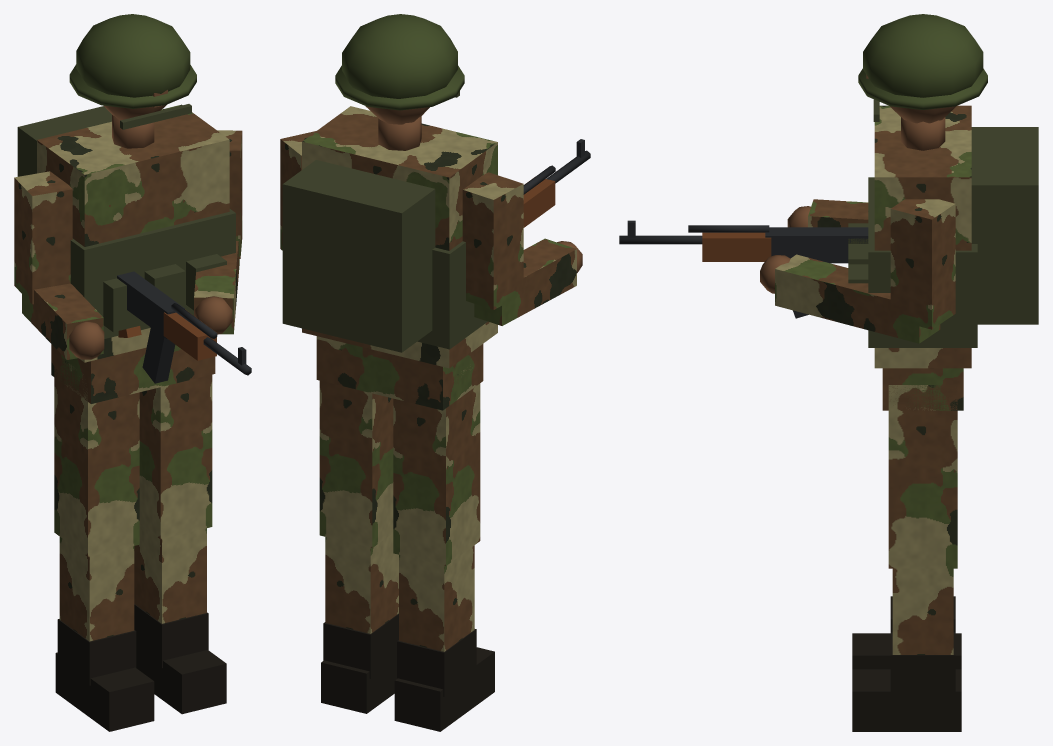
Rendered from soldier_army.fbx.
3 views of the same model, side by side, from view 1: azimuth 30°, elevation 25°; view 2: azimuth 150°, elevation 25°; view 3: azimuth 270°, elevation 25° (orthographic).
Visible parts, largest first — view 1: Torso, LegR, LegL, ArmR, Head, Rifle, Pelvis, ArmL; view 2: Torso, LegR, LegL, ArmR, Head, Pelvis, Rifle, ArmL; view 3: Torso, LegL, ArmL, Head, Rifle, Pelvis, ArmR, LegR.
Part boxes in pixels (x1,y1,x2,y2): Torso: (17, 104, 235, 362); LegR: (54, 352, 154, 731); LegL: (134, 374, 226, 714); ArmR: (14, 171, 104, 359); Head: (69, 14, 196, 129); Rifle: (117, 271, 251, 383); Pelvis: (51, 344, 215, 403); ArmL: (194, 130, 242, 334); Torso: (282, 106, 497, 368); LegR: (393, 366, 494, 731); LegL: (319, 380, 398, 713); ArmR: (462, 172, 582, 325); Head: (335, 14, 464, 124); Pelvis: (316, 336, 483, 410); Rifle: (523, 139, 590, 227); ArmL: (280, 131, 315, 250); Torso: (848, 105, 1038, 368); LegL: (852, 385, 961, 731); ArmL: (760, 199, 955, 343); Head: (858, 14, 987, 123); Rifle: (619, 220, 868, 318); Pelvis: (882, 368, 963, 410); ArmR: (787, 199, 868, 227); LegR: (852, 596, 961, 669).
Size of the model in its own units: 0.6769 by 1.86 by 1.03.
